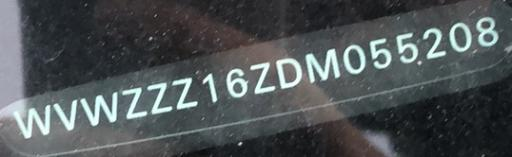letter: (78, 86, 122, 131), (12, 100, 52, 143), (303, 46, 343, 83), (272, 55, 306, 92), (167, 74, 201, 111), (246, 59, 278, 96), (145, 78, 175, 117), (420, 25, 450, 63), (471, 13, 503, 48), (222, 66, 250, 105), (366, 34, 394, 72), (120, 85, 150, 119), (52, 96, 78, 135), (448, 20, 474, 58), (394, 28, 420, 66), (340, 42, 368, 77), (198, 72, 222, 107)
